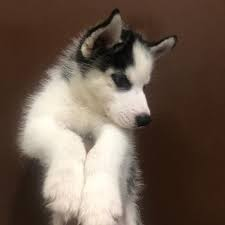Siberian Husky: (12, 9, 185, 223)
